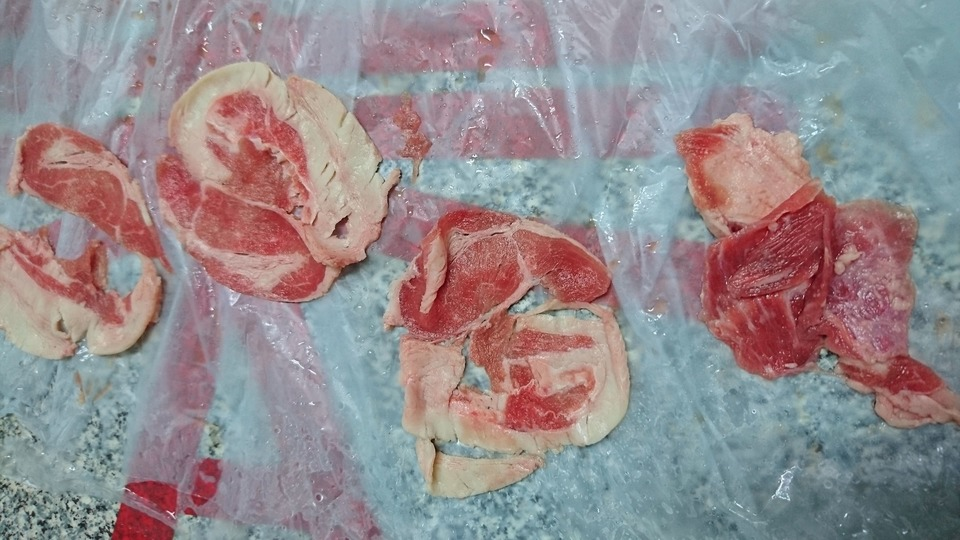restructured meat: (677, 118, 960, 432), (395, 216, 643, 505), (152, 46, 405, 302), (3, 112, 163, 359)
